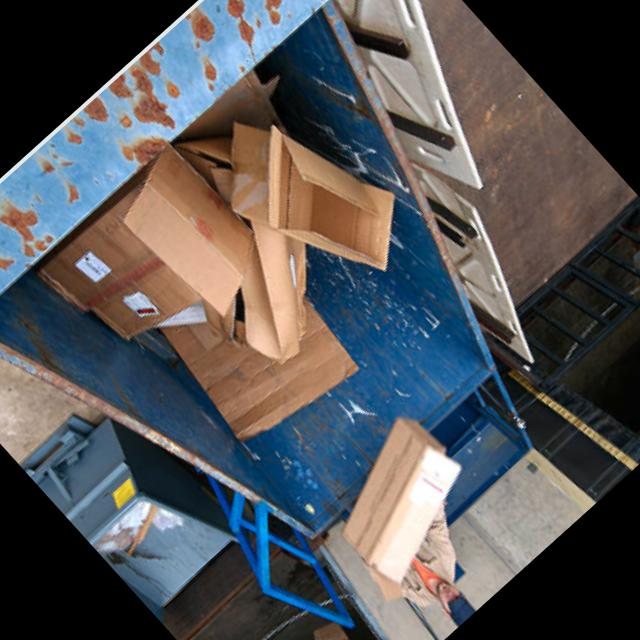Kardus: (29, 53, 467, 490)
